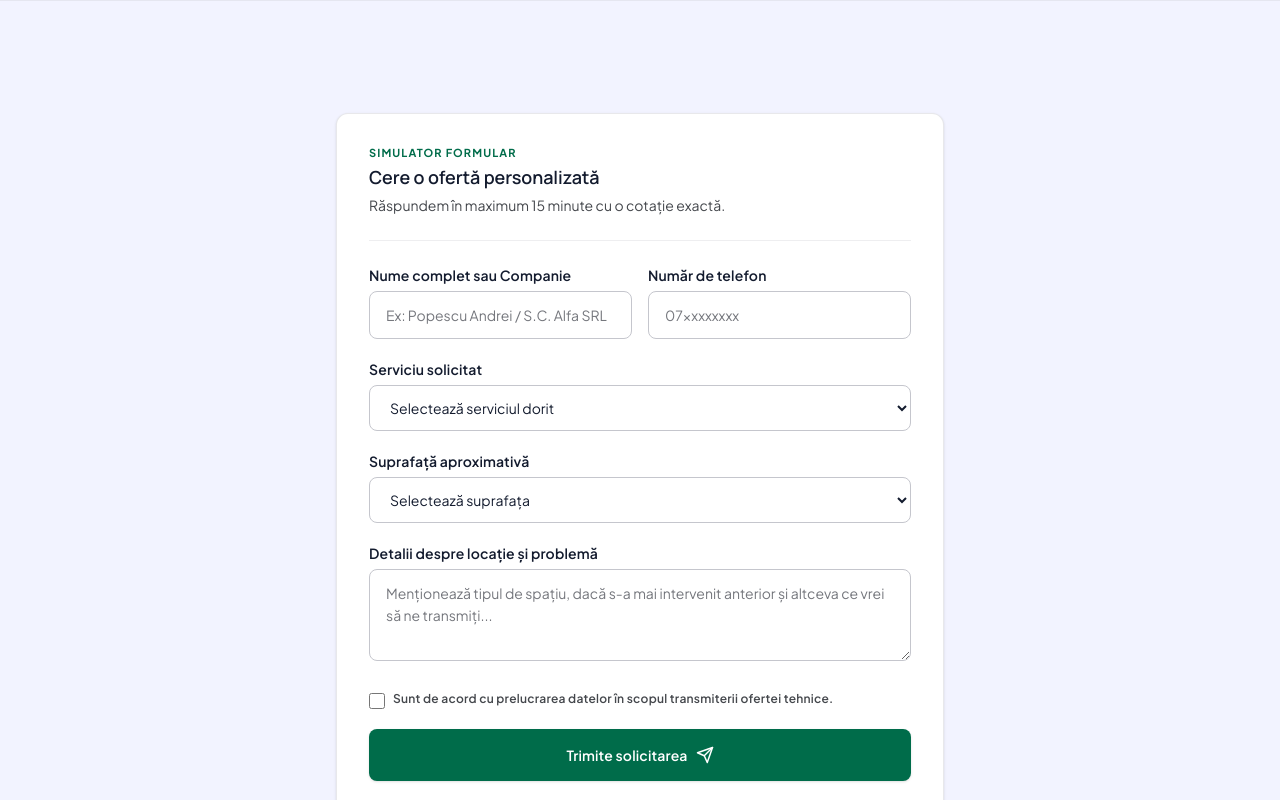
Scenario: ContactForm › marks an invalid phone with aria-invalid and its message
The width and height of the screenshot is (1280, 800).
Type "07123" into the field labelled "Număr de telefon". click: (780, 315)
box: [648, 291, 911, 339]
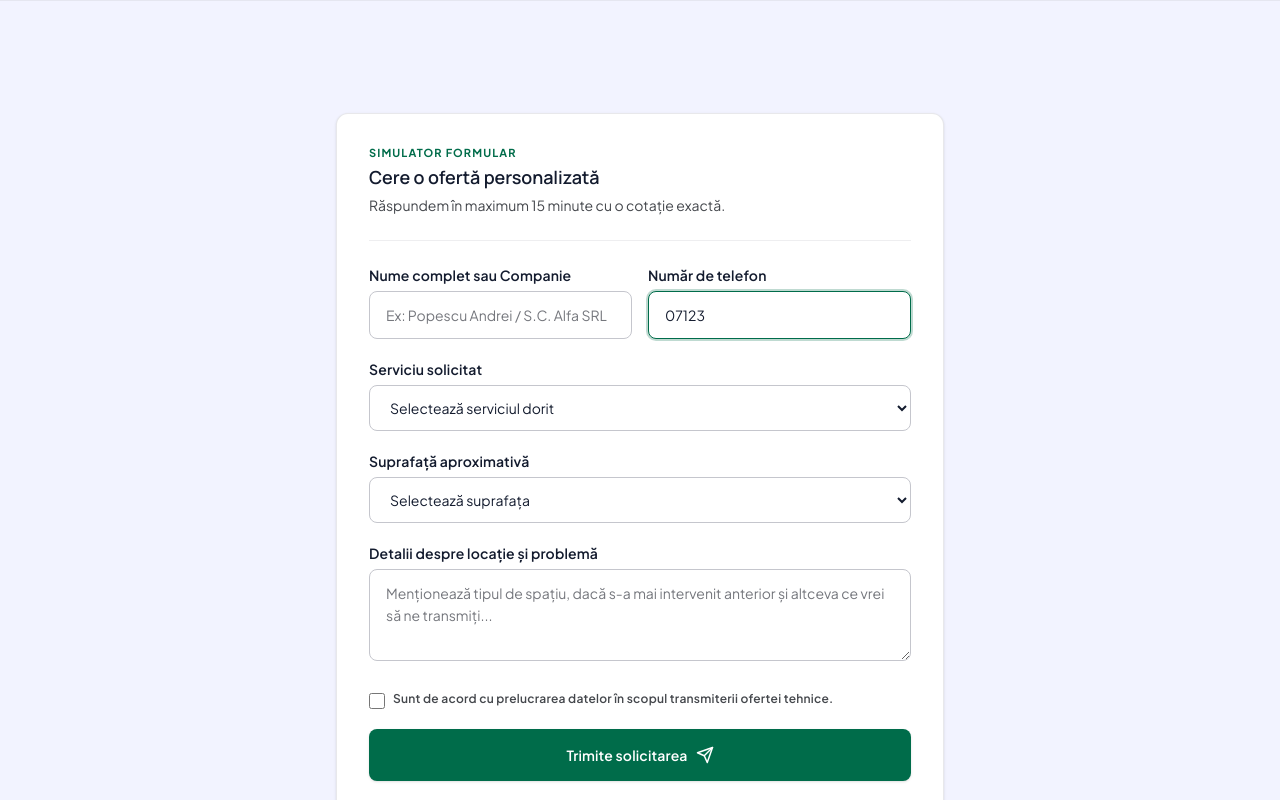
Click the button "Trimite solicitarea". click: click(640, 755)
box: [369, 729, 911, 781]
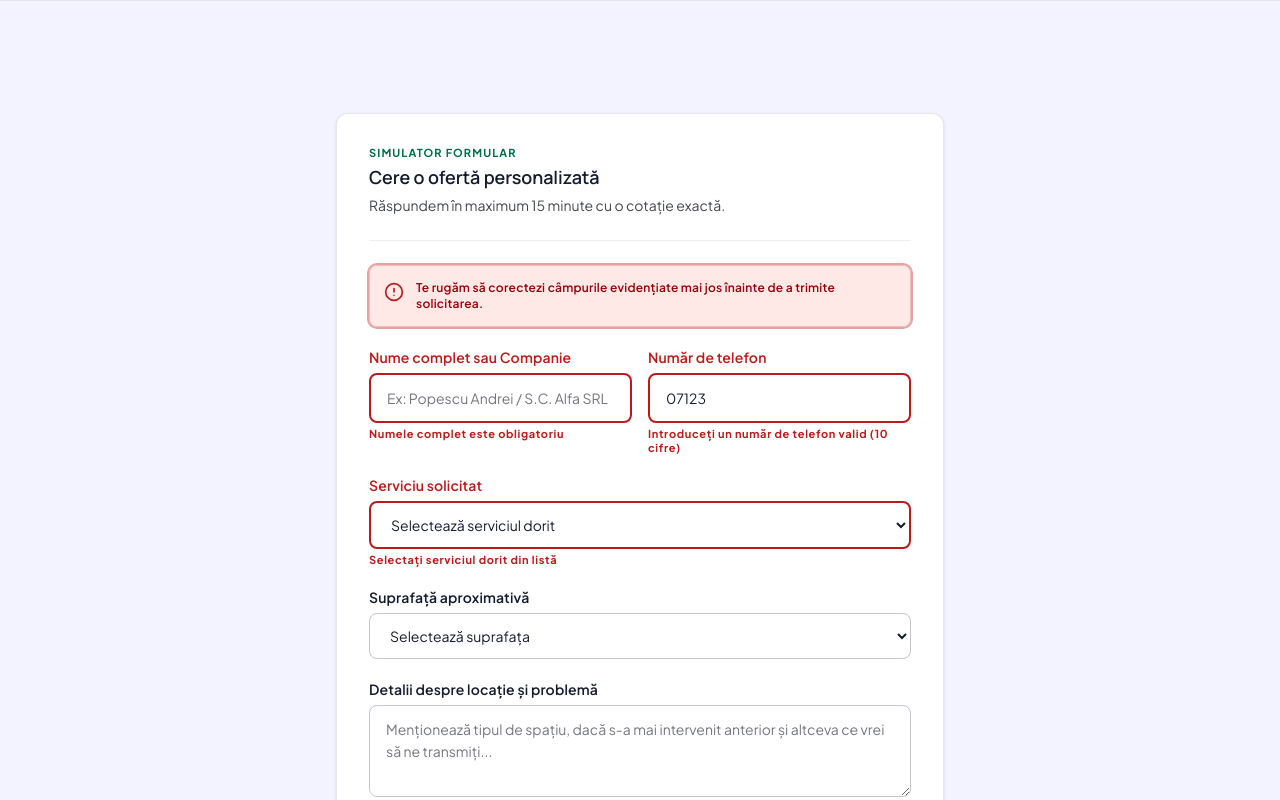
expect the text "Introduceți un număr de telefon valid (10 cifre)" is shown: met, box [648, 427, 911, 455]
